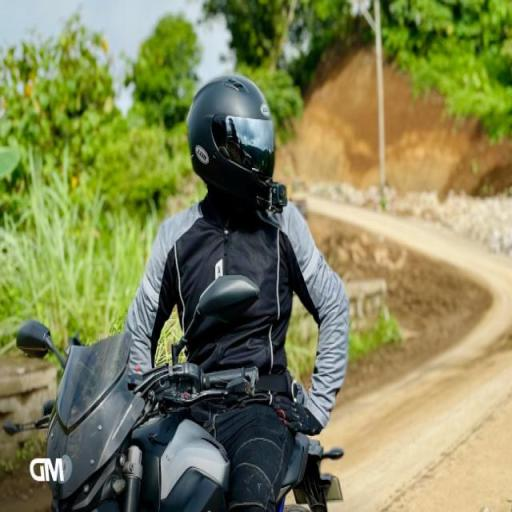Helmet: (184, 59, 278, 213)
Motor: (34, 306, 334, 512)
